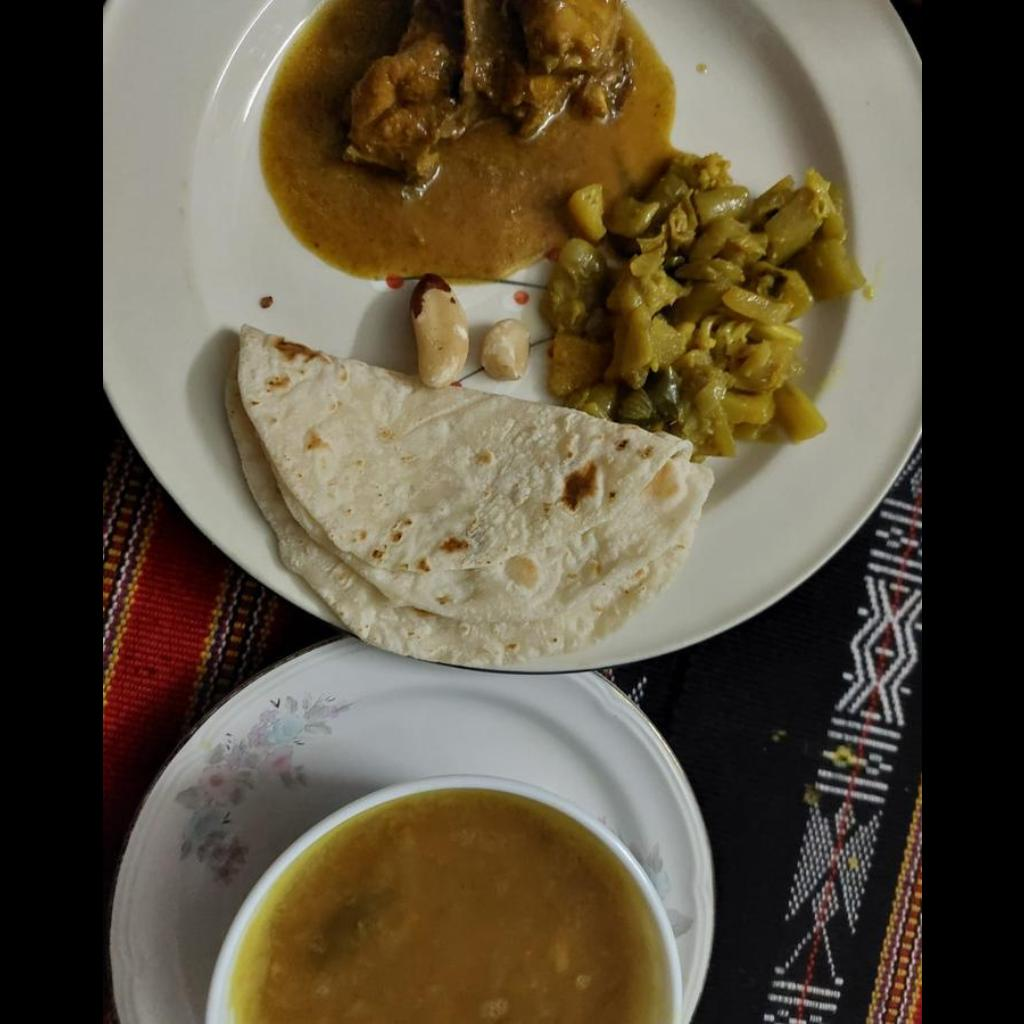chicken: (346, 1, 630, 171)
daal: (232, 796, 671, 1023)
ruti: (223, 320, 714, 668)
vaji: (541, 160, 867, 461)
